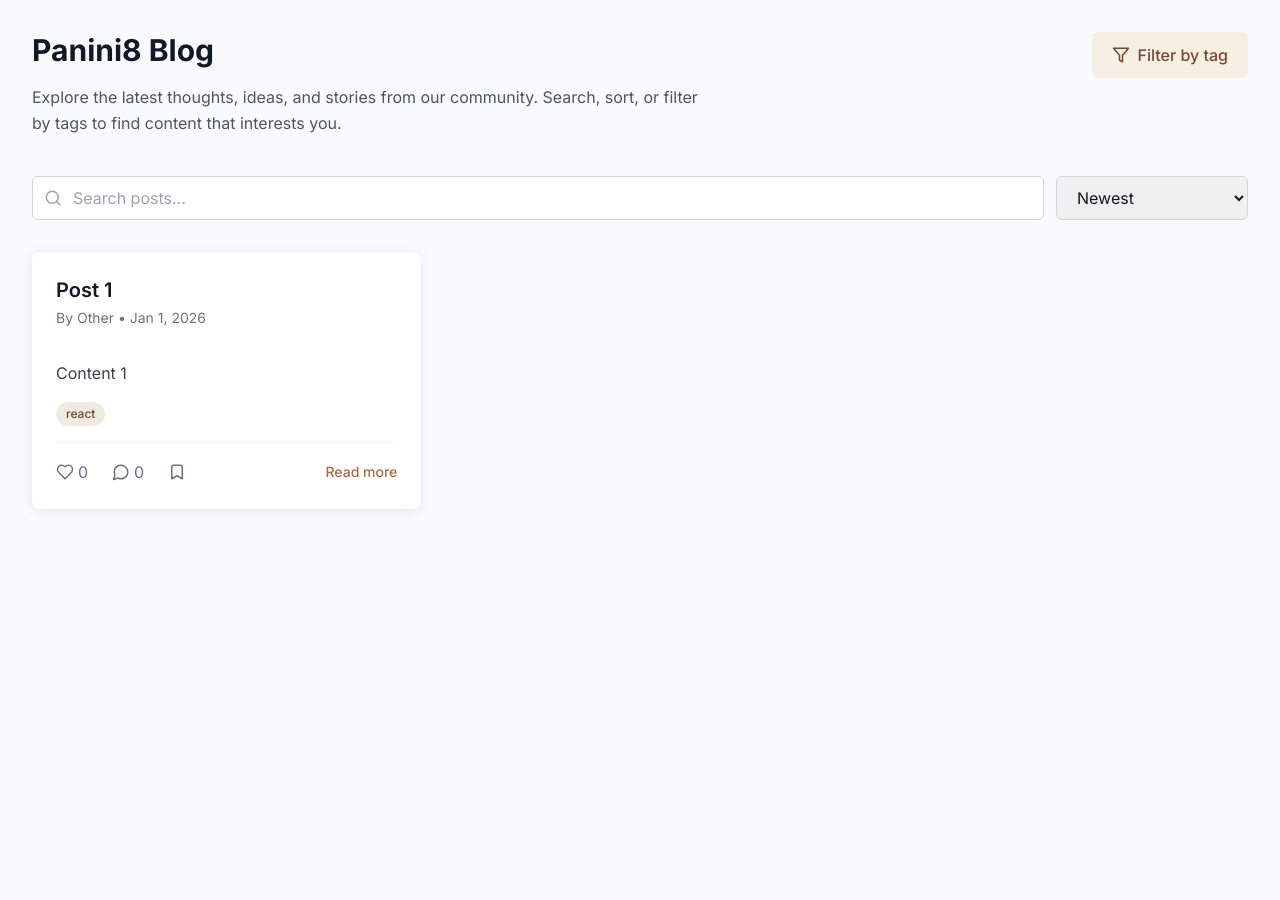
Test case: Home › filters by tag using the server
This screenshot has width=1280, height=900.
Check: the heading "Post 1" is shown, box [56,278,112,302]
Click the button "Filter by tag" at (1170, 55), box [1092,32,1248,78]
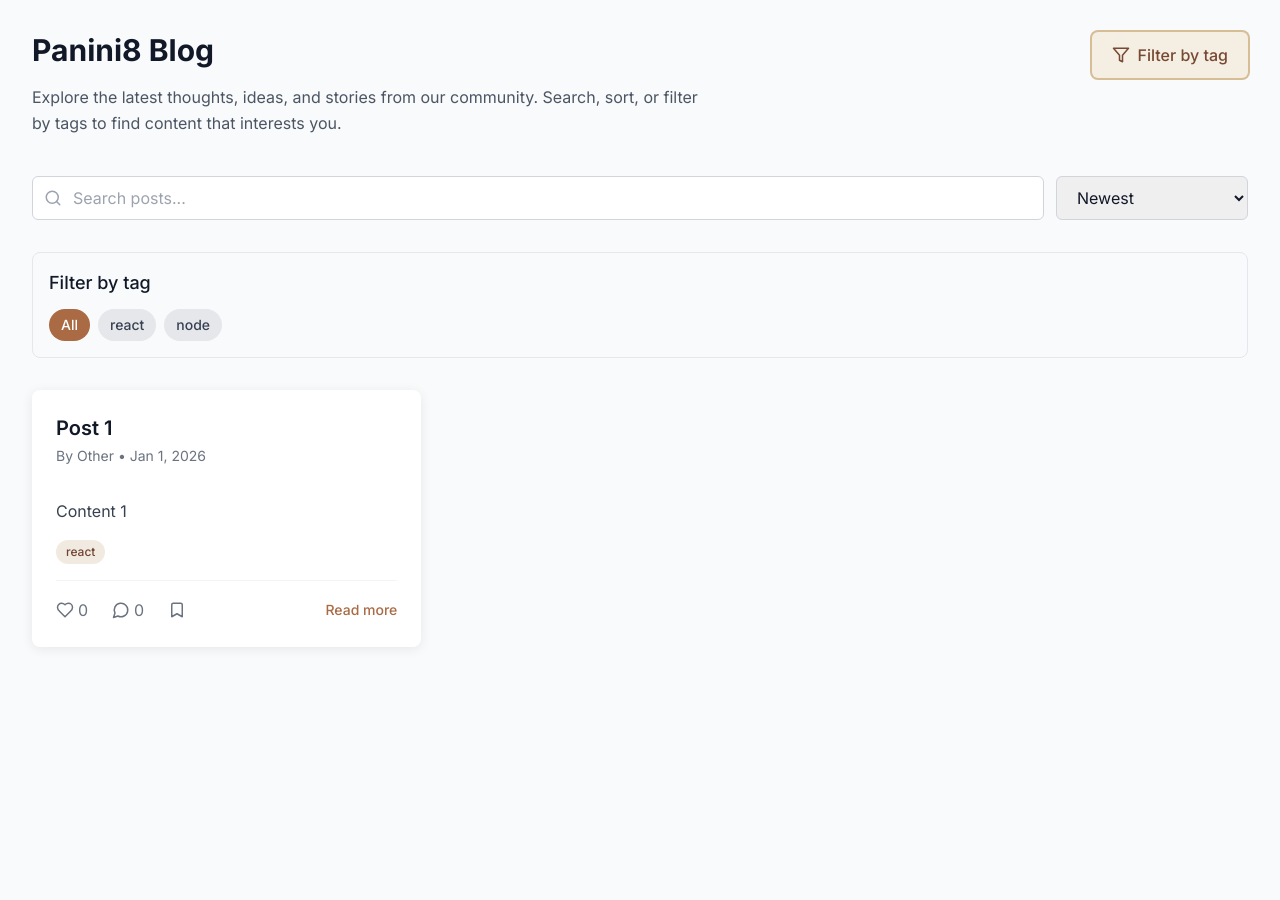
Click the button "node" at (193, 325), box [164,309,222,341]
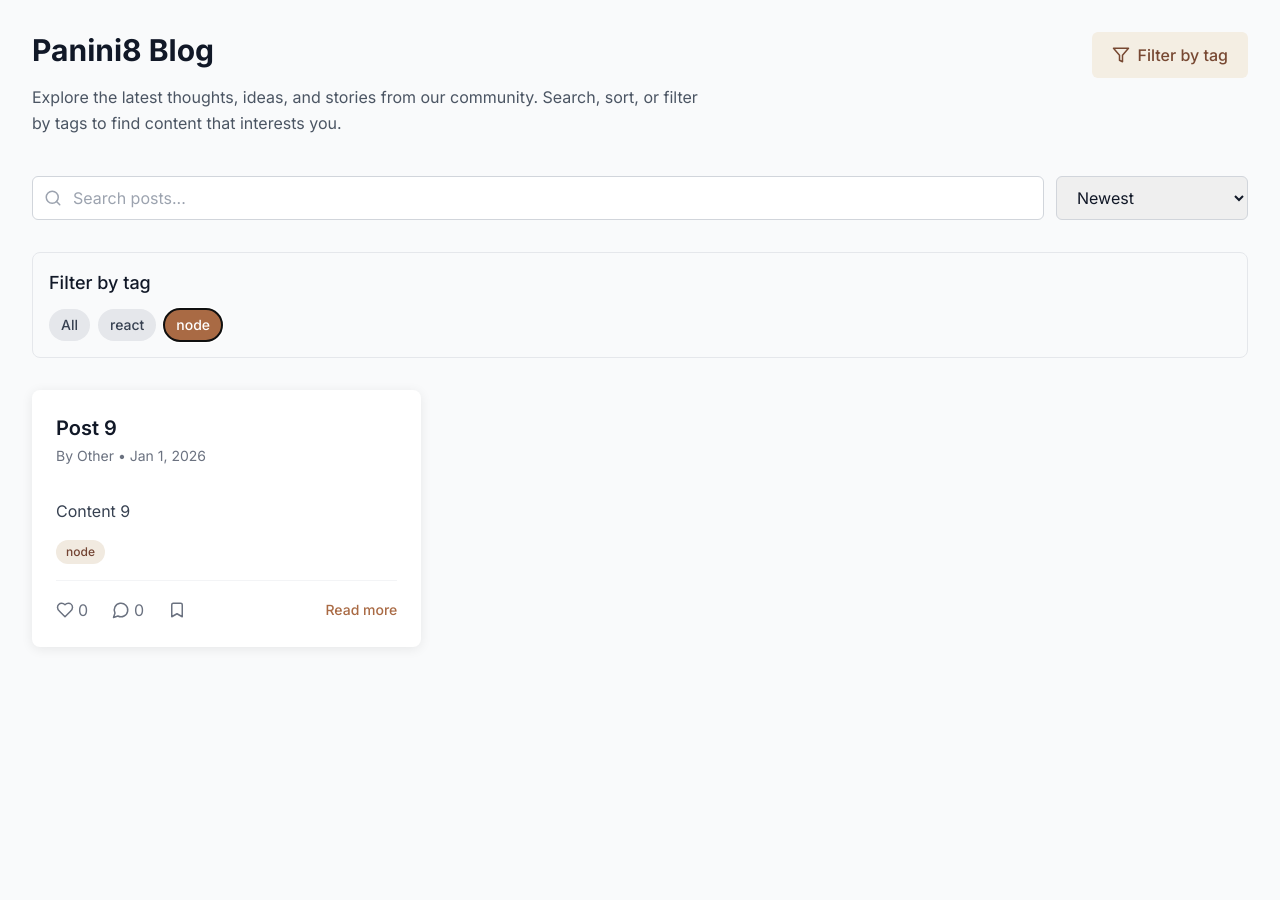
Check: the heading "Post 9" is shown, box [56,416,117,440]
Check: the link "Post 1" is gone
